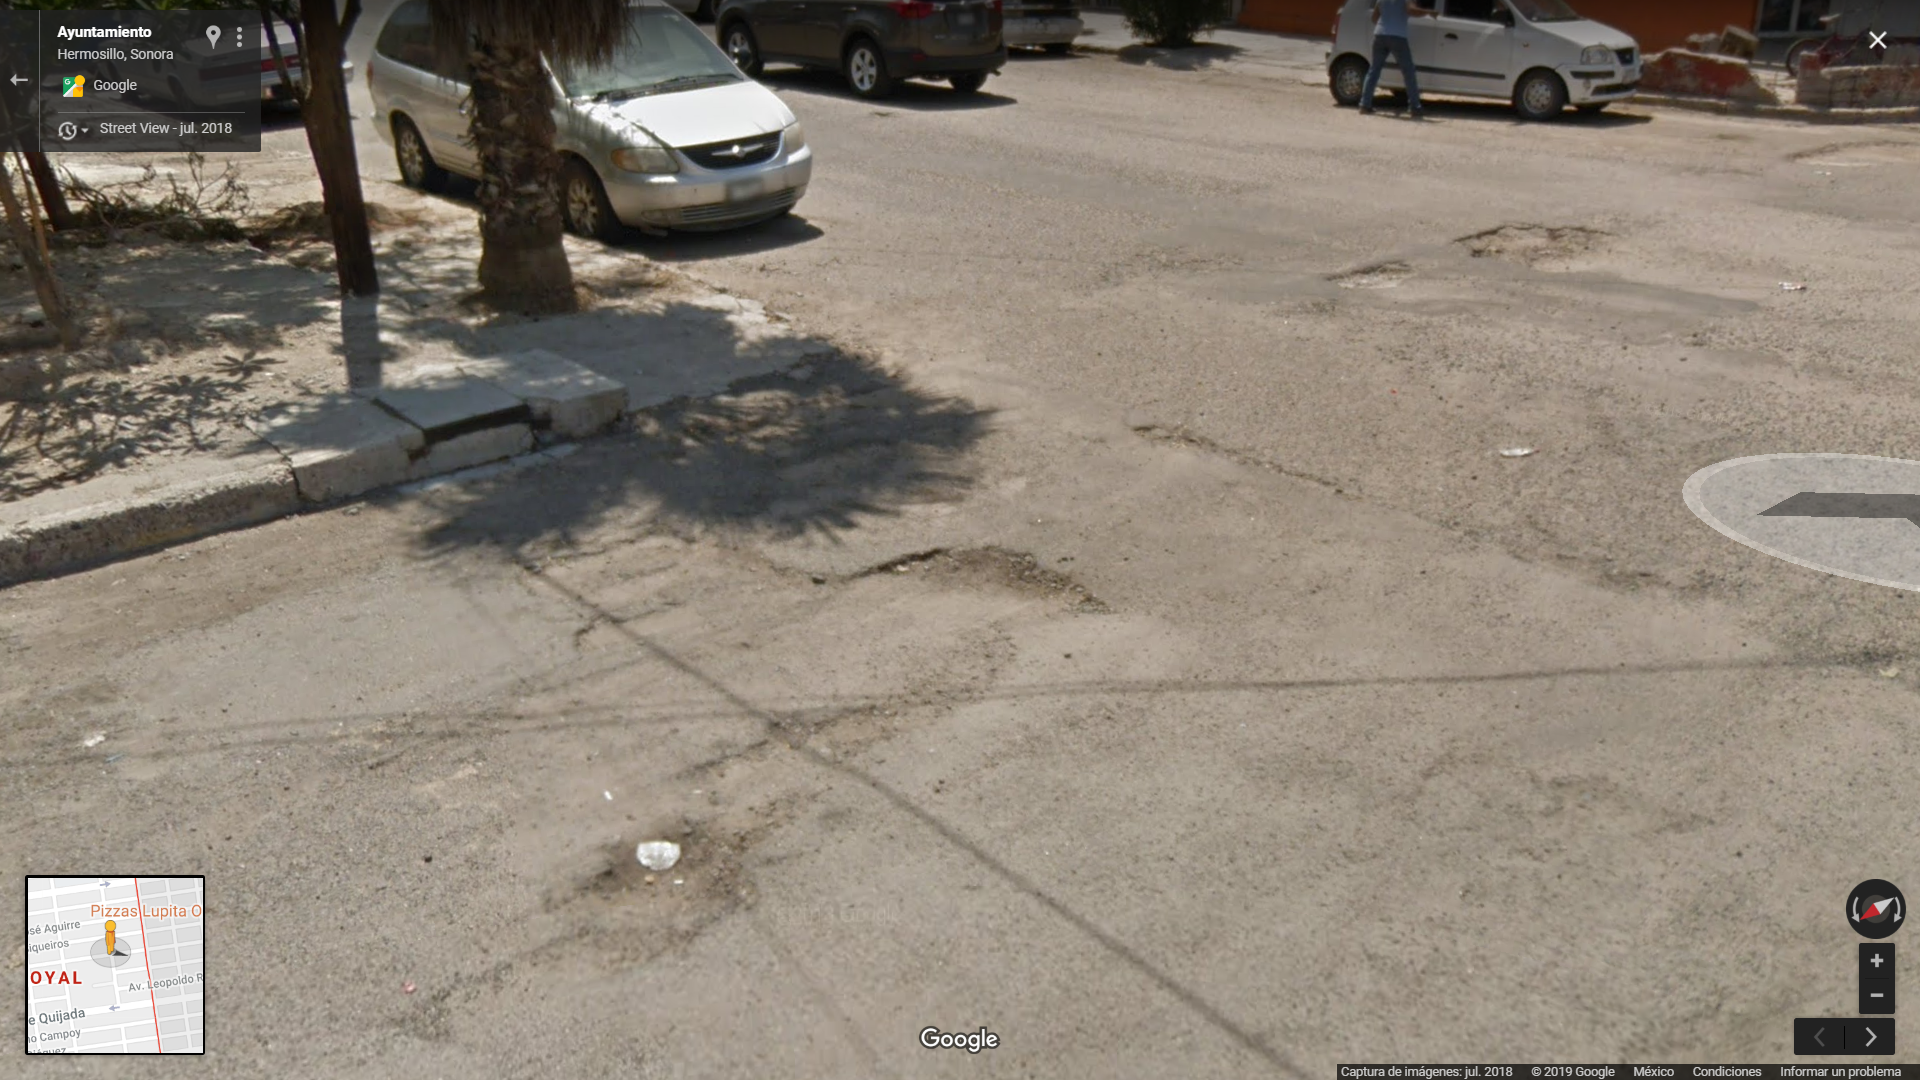pothole: (812, 502, 1100, 659), (559, 779, 779, 953), (1455, 187, 1606, 282), (1317, 247, 1419, 301)
